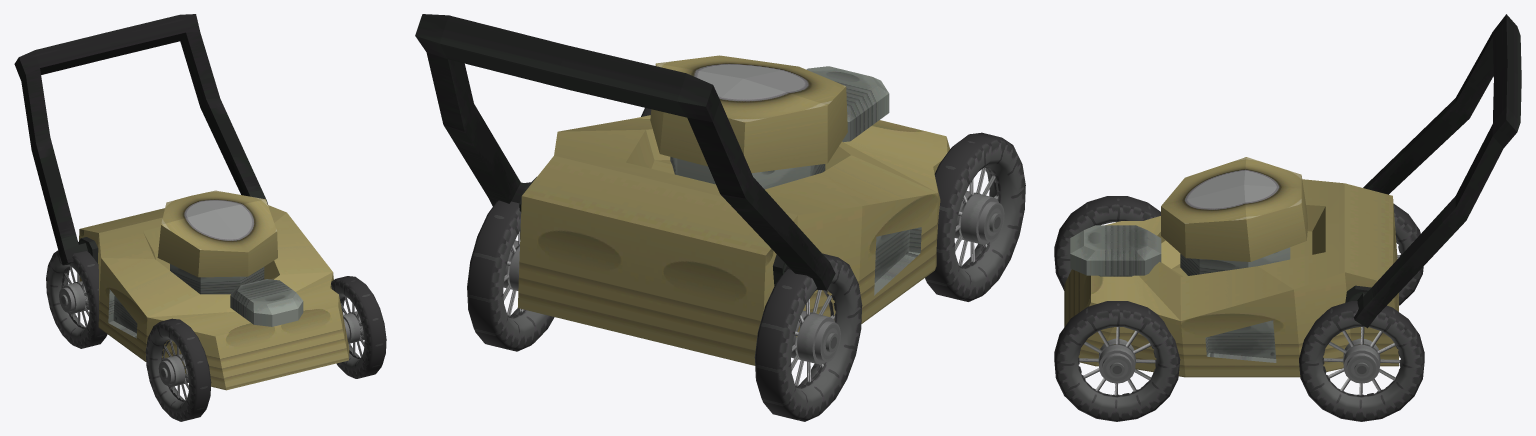
Rendered from LawnMower.fbx.
3 views of the same model, side by side, from view 1: azimuth 30°, elevation 25°; view 2: azimuth 150°, elevation 25°; view 3: azimuth 270°, elevation 25° (orthographic). The views are drawn at different scales.
Visible parts, largest first — view 1: LawnMower, Wheel, Wheel (2), Wheel (1); view 2: LawnMower, Wheel (2), Wheel, Wheel (3); view 3: LawnMower, Wheel (1), Wheel (3), Wheel, Wheel (2).
Boxes of the visible parts, box(x1,y1,x2,y2) form: LawnMower: box(14, 14, 349, 390); Wheel: box(145, 318, 211, 421); Wheel (2): box(46, 250, 107, 348); Wheel (1): box(331, 276, 386, 378); LawnMower: box(415, 14, 949, 365); Wheel (2): box(754, 253, 862, 421); Wheel: box(925, 132, 1025, 301); Wheel (3): box(467, 182, 554, 351); LawnMower: box(1064, 14, 1521, 377); Wheel (1): box(1054, 301, 1180, 421); Wheel (3): box(1299, 301, 1424, 421); Wheel: box(1054, 196, 1160, 290); Wheel (2): box(1393, 204, 1423, 305).
Bounding box in the file's own units: 1.24 × 1.42 × 1.99.
2 materials, 2 textured.
